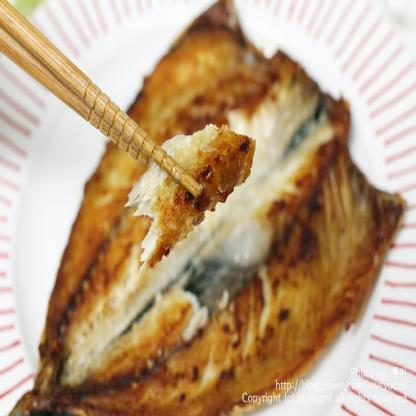Peixe: (37, 0, 396, 416), (120, 103, 253, 272)
